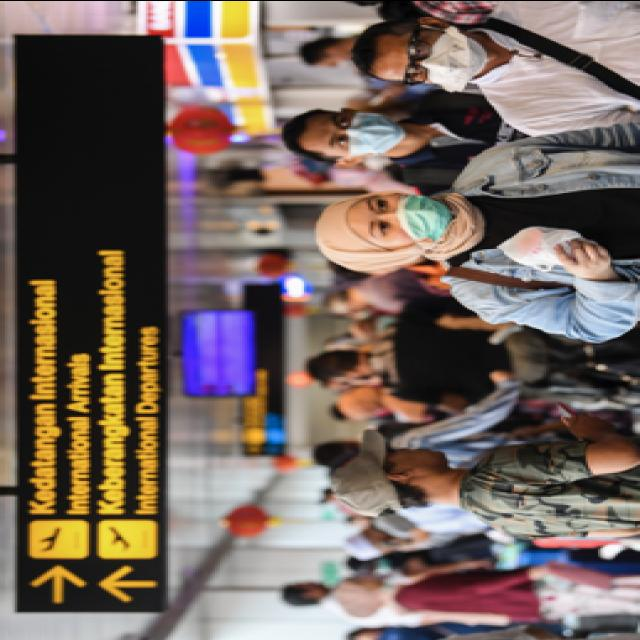with_mask: (358, 190, 452, 254), (390, 29, 482, 88), (323, 110, 402, 160)
without_mask: (382, 443, 442, 467)
